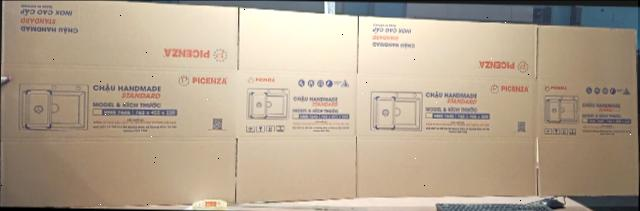box: (0, 0, 638, 206)
